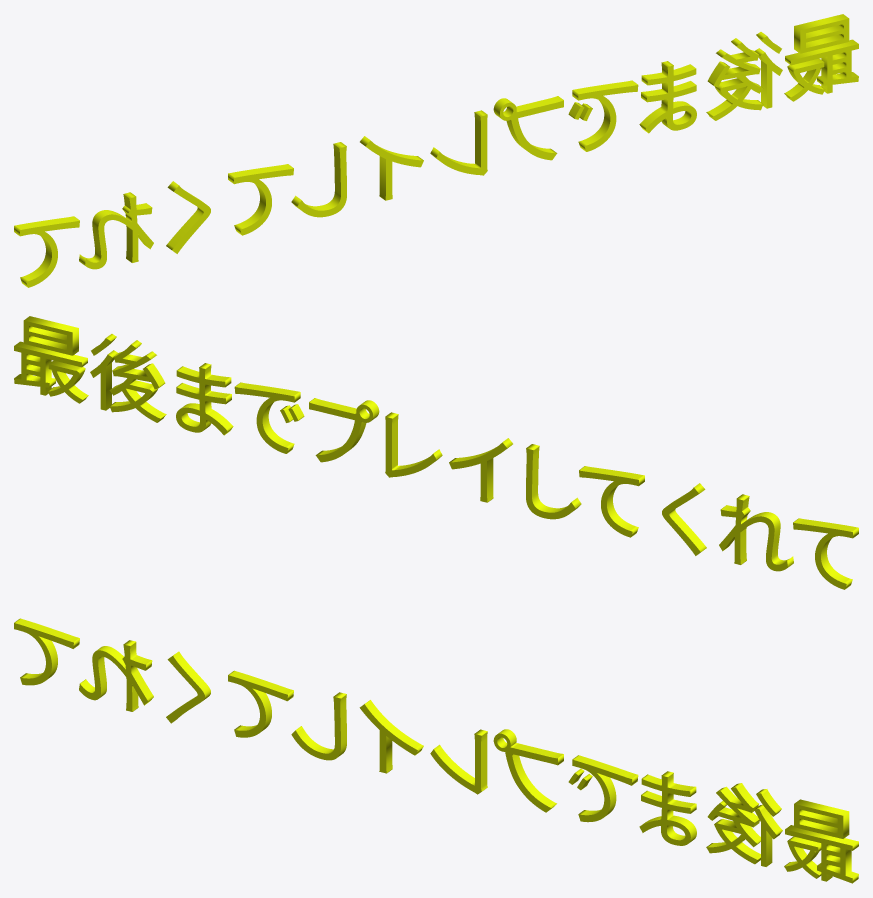
Rendered from gamecleartext1.obj.
The picture shows the model from 3 angles, top to bottom: view 1: azimuth 30°, elevation 25°; view 2: azimuth 150°, elevation 25°; view 3: azimuth 330°, elevation 25°; orthographic projection.
Visible parts, largest first — view 1: Text, Text.001, Text.002, Text.010, Text.003, Text.004, Text.011, Text.008, Text.007, Text.005, Text.006, Text.009; view 2: Text, Text.001, Text.002, Text.010, Text.003, Text.004, Text.011, Text.008, Text.007, Text.005, Text.006, Text.009; view 3: Text, Text.001, Text.002, Text.010, Text.004, Text.003, Text.011, Text.008, Text.005, Text.006, Text.007, Text.009.
Boxes of the visible parts, x1,y1,x2,y2 form: Text: (784, 14, 858, 101); Text.001: (706, 32, 782, 120); Text.002: (639, 61, 696, 133); Text.010: (79, 192, 153, 269); Text.003: (568, 80, 638, 151); Text.004: (493, 96, 563, 160); Text.011: (14, 216, 79, 287); Text.008: (228, 164, 293, 235); Text.007: (291, 142, 346, 217); Text.005: (430, 110, 487, 175); Text.006: (360, 136, 423, 200); Text.009: (166, 181, 210, 253); Text: (14, 316, 88, 403); Text.001: (90, 334, 166, 422); Text.002: (176, 363, 233, 435); Text.010: (719, 494, 793, 571); Text.003: (234, 382, 304, 453); Text.004: (309, 398, 379, 462); Text.011: (793, 518, 858, 589); Text.008: (579, 466, 644, 537); Text.007: (526, 444, 581, 519); Text.005: (385, 412, 442, 477); Text.006: (449, 438, 512, 502); Text.009: (662, 483, 706, 555); Text: (784, 799, 858, 883); Text.001: (706, 783, 782, 866); Text.002: (639, 771, 696, 845); Text.010: (79, 640, 153, 711); Text.004: (493, 729, 563, 812); Text.003: (568, 755, 638, 822); Text.011: (14, 618, 79, 685); Text.008: (228, 670, 293, 737); Text.005: (430, 729, 487, 794); Text.006: (359, 700, 423, 773); Text.007: (291, 692, 346, 760); Text.009: (166, 651, 210, 723).
Size of the model in its own units: 11.14 by 0.9442 by 0.14.
1 material, 1 textured.
